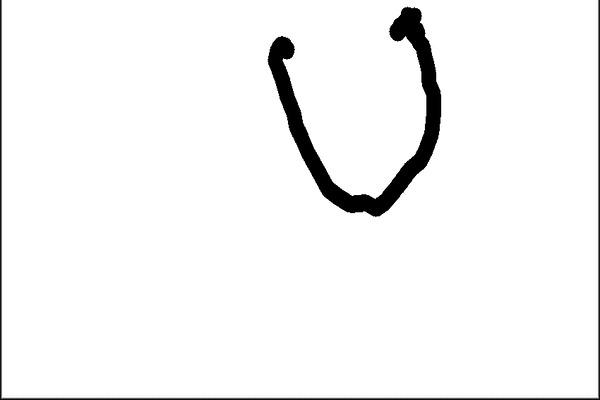U: (255, 4, 449, 218)
